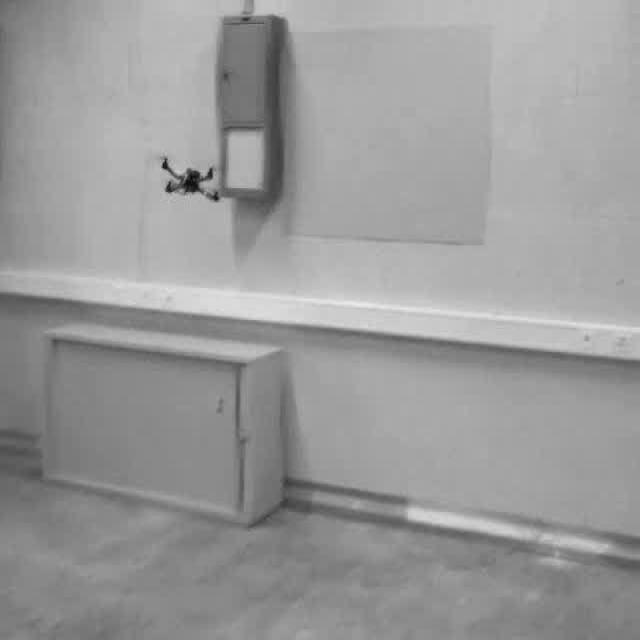drone: (153, 152, 222, 208)
